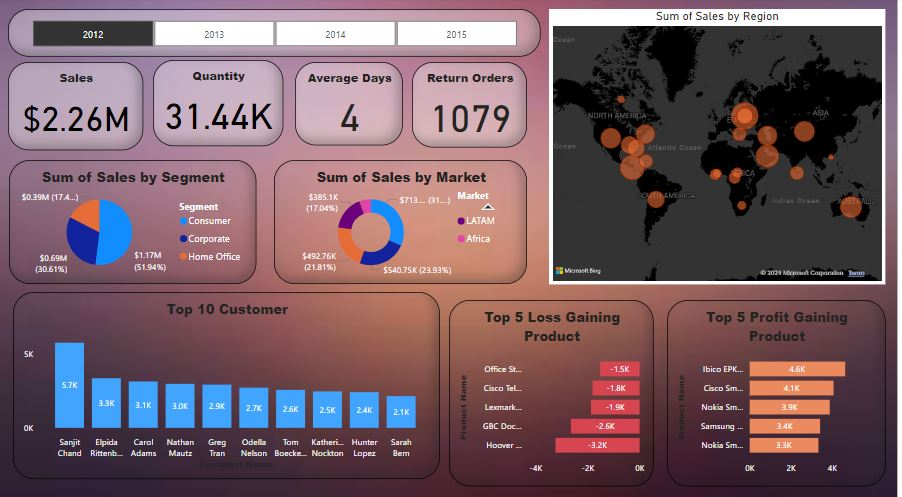

The dashboard page shown, as its layout file describes it:
{"tool":"powerbi","page":{"name":"Page 1","canvas":[1280,720],"ordinal":0},"visuals":[{"type":"card","title":"Sales","fields":{"Values":["Sum(Orders.Sales)"]},"box":[11.3,90.7,192.8,126.1],"z":0},{"type":"card","title":"Average Days","fields":{"Values":["Avg(Orders.Delivery Days)"]},"box":[420.9,90.7,154.5,119.1],"z":1000},{"type":"card","title":"Quantity","fields":{"Values":["Sum(Orders.Quantity)"]},"box":[218.3,87.9,185.7,123.3],"z":2000},{"type":"slicer","fields":{"Values":["Orders.Year"]},"box":[11.3,15.6,759.7,68],"z":3000},{"type":"card","title":"Return Orders","fields":{"Values":["Sum(Returns.Return Numbers)"]},"box":[588.2,90.7,164.4,121.9],"z":4000},{"type":"map","fields":{"Size":["Sum(Orders.Sales)"],"Category":["Orders.Region"]},"box":[783.8,15.6,480.5,392.6],"z":5000},{"type":"clusteredBarChart","title":"Top 5 Profit Gaining Product","fields":{"Y":["Sum(Orders.Profit)"],"Category":["Orders.Product Name"]},"box":[952.4,430.9,311.8,266.5],"z":6000},{"type":"clusteredBarChart","title":"Top 5 Loss Gaining Product","fields":{"Y":["Sum(Orders.Profit)"],"Category":["Orders.Product Name"]},"box":[640.6,430.9,292,266.5],"z":7000},{"type":"pieChart","fields":{"Category":["Orders.Segment"],"Y":["Sum(Orders.Sales)"]},"box":[12.8,231,352.9,177.2],"z":8000},{"type":"donutChart","fields":{"Y":["Sum(Orders.Sales)"],"Category":["Orders.Market"]},"box":[391.2,231,361.4,177.2],"z":9000},{"type":"columnChart","title":"Top 10 Customer","fields":{"Y":["Sum(Orders.Profit)"],"Category":["Orders.Customer Name"]},"box":[18.6,419.5,609.3,266.8],"z":10000}]}

Visuals, with their boxes in screenshot pixels (x1, y1, x2, y2), scaled from the page's 1280x720 canvas onto the 902x497 screenshot:
"Sales" card: select_region(8, 63, 144, 150)
"Average Days" card: select_region(297, 63, 405, 145)
"Quantity" card: select_region(154, 61, 285, 146)
slicer - Orders.Year: select_region(8, 11, 543, 58)
"Return Orders" card: select_region(414, 63, 530, 147)
map - Sum(Orders.Sales) x Orders.Region: select_region(552, 11, 891, 282)
"Top 5 Profit Gaining Product" clusteredBarChart: select_region(671, 297, 891, 481)
"Top 5 Loss Gaining Product" clusteredBarChart: select_region(451, 297, 657, 481)
pieChart - Orders.Segment x Sum(Orders.Sales): select_region(9, 159, 258, 282)
donutChart - Sum(Orders.Sales) x Orders.Market: select_region(276, 159, 530, 282)
"Top 10 Customer" columnChart: select_region(13, 290, 442, 474)
